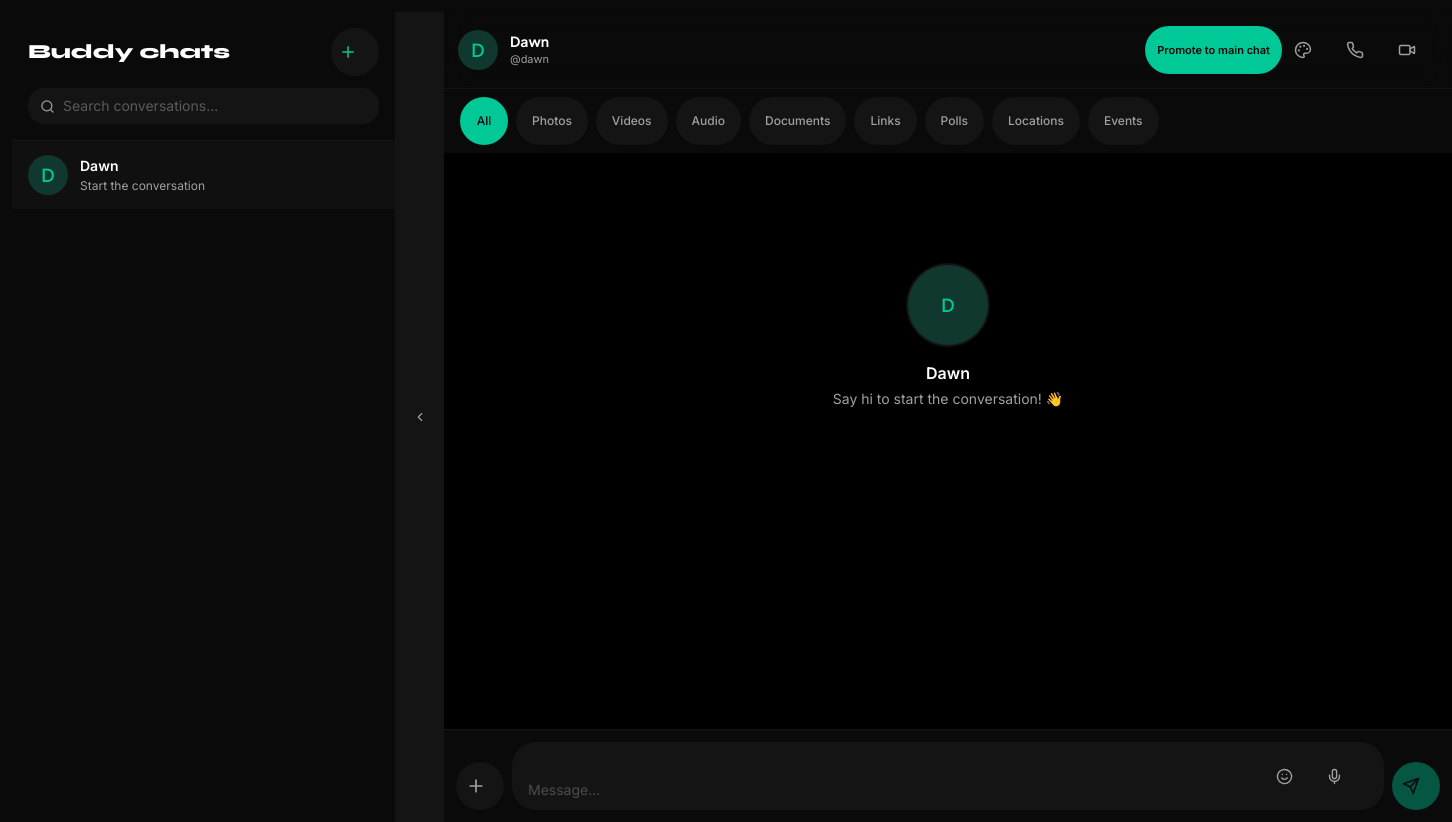
Messages discovery scope › offers promotion only on a promotable discovery chat
The width and height of the screenshot is (1452, 822).
What coordinates should you click on to do the following:
click the button "Promote to main chat"
I would click on:
 (1214, 50)
Its box is left=1145, top=26, right=1282, bottom=74.
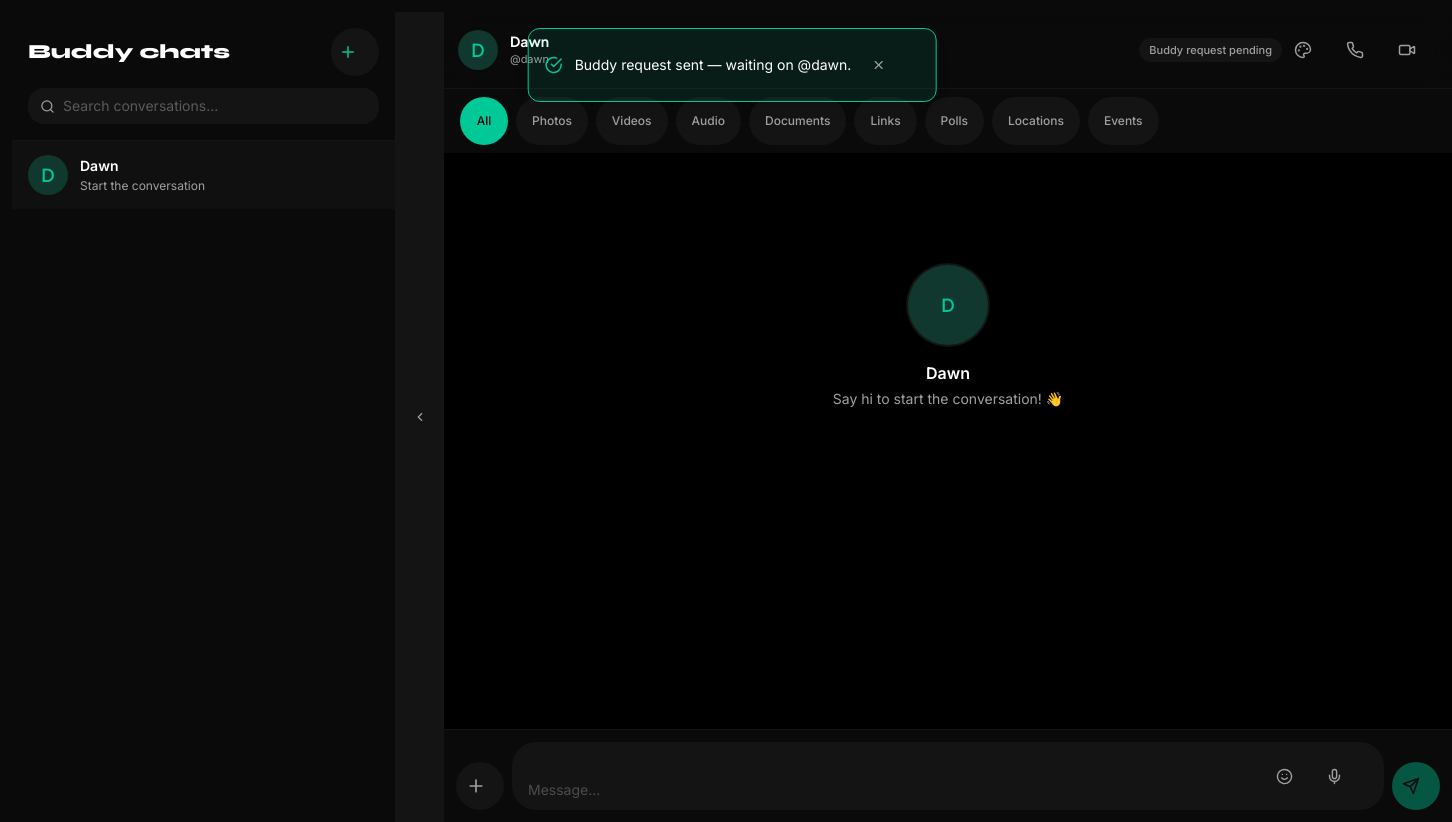
Result: the text "Buddy request pending" is shown at left=1139, top=38, right=1282, bottom=62
